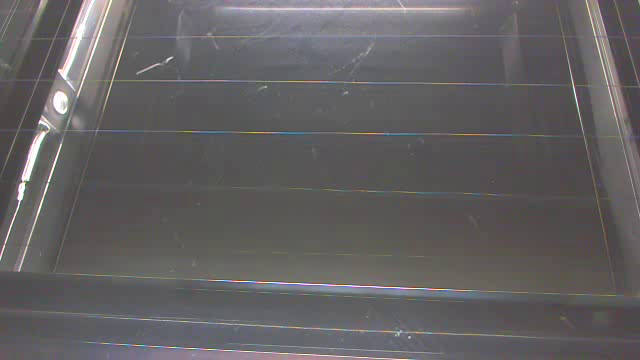alpha: (136, 54, 175, 75)
